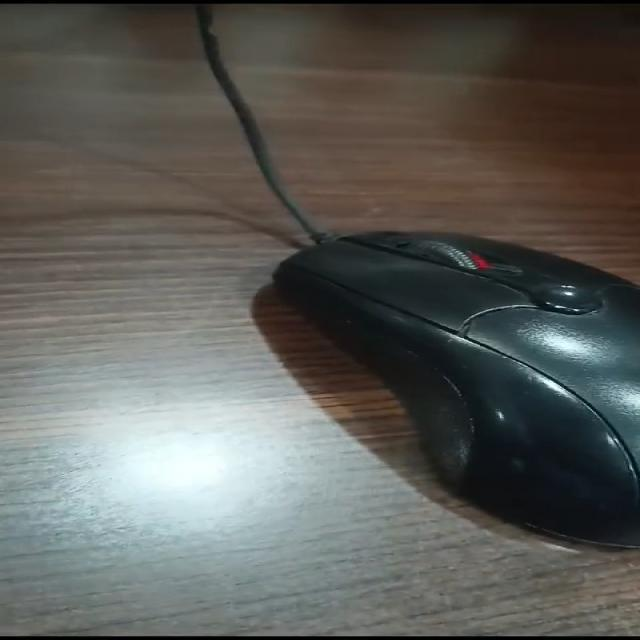Mouse: (224, 184, 640, 579)
